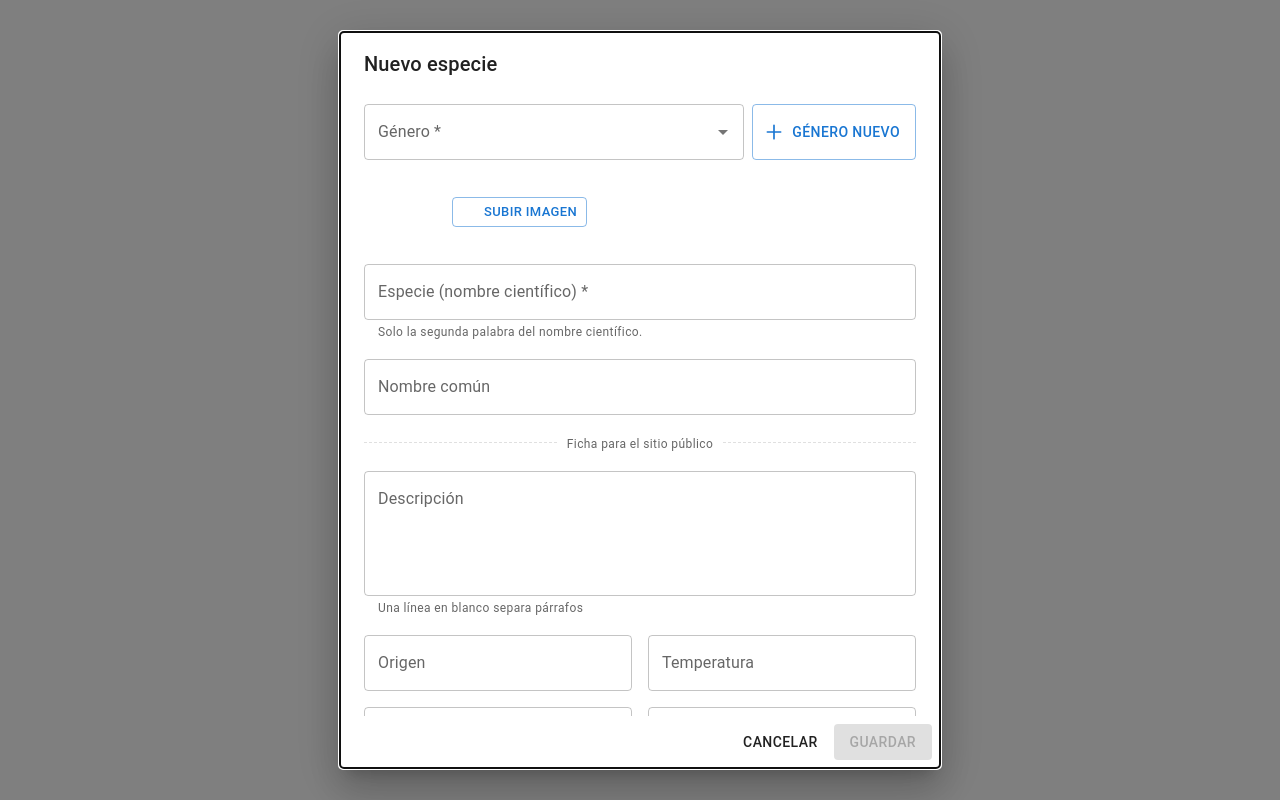
it: TaxonDialog › no deja crear un género que ya existe; hay que elegirlo de la lista
Click the button "Género nuevo": (834, 132) top-left (752, 104), bottom-right (916, 160)
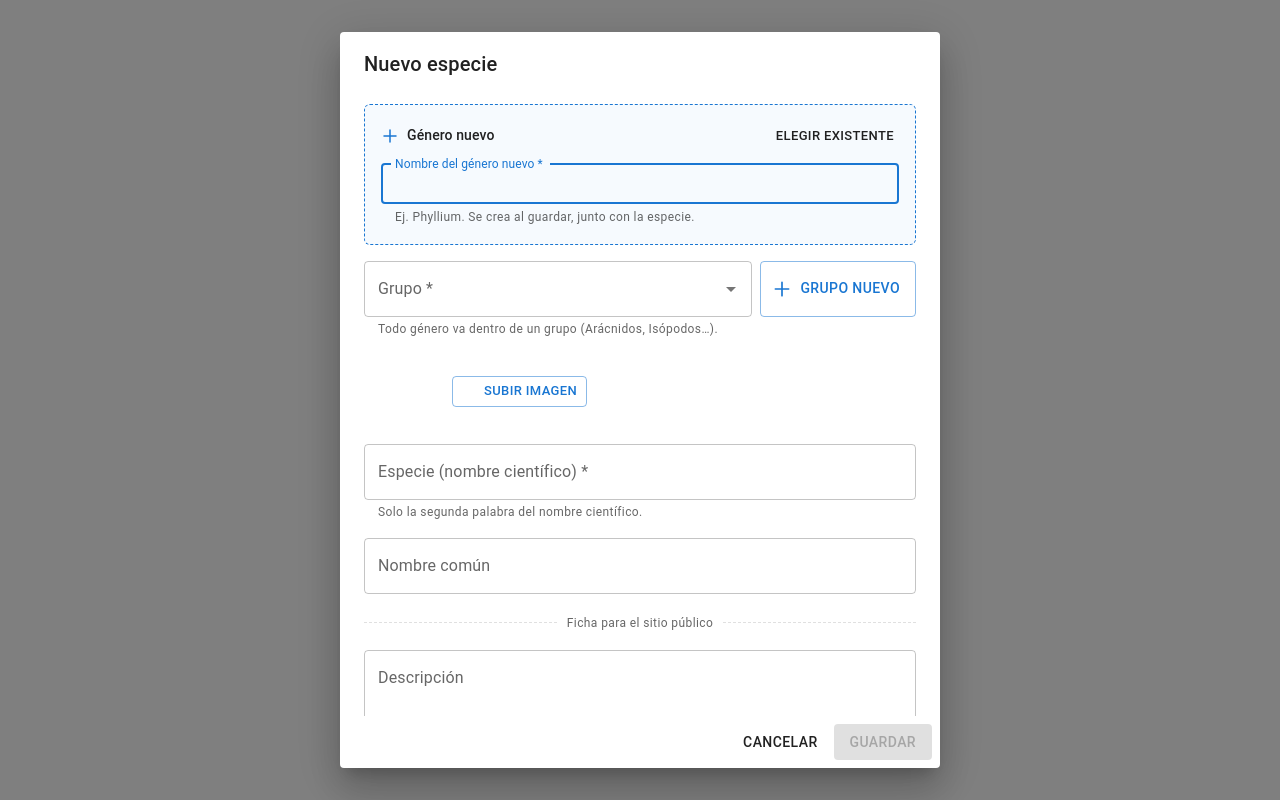
In the field labelled "Nombre del género nuevo *": (640, 184) top-left (381, 164), bottom-right (899, 204), type "cubaris"
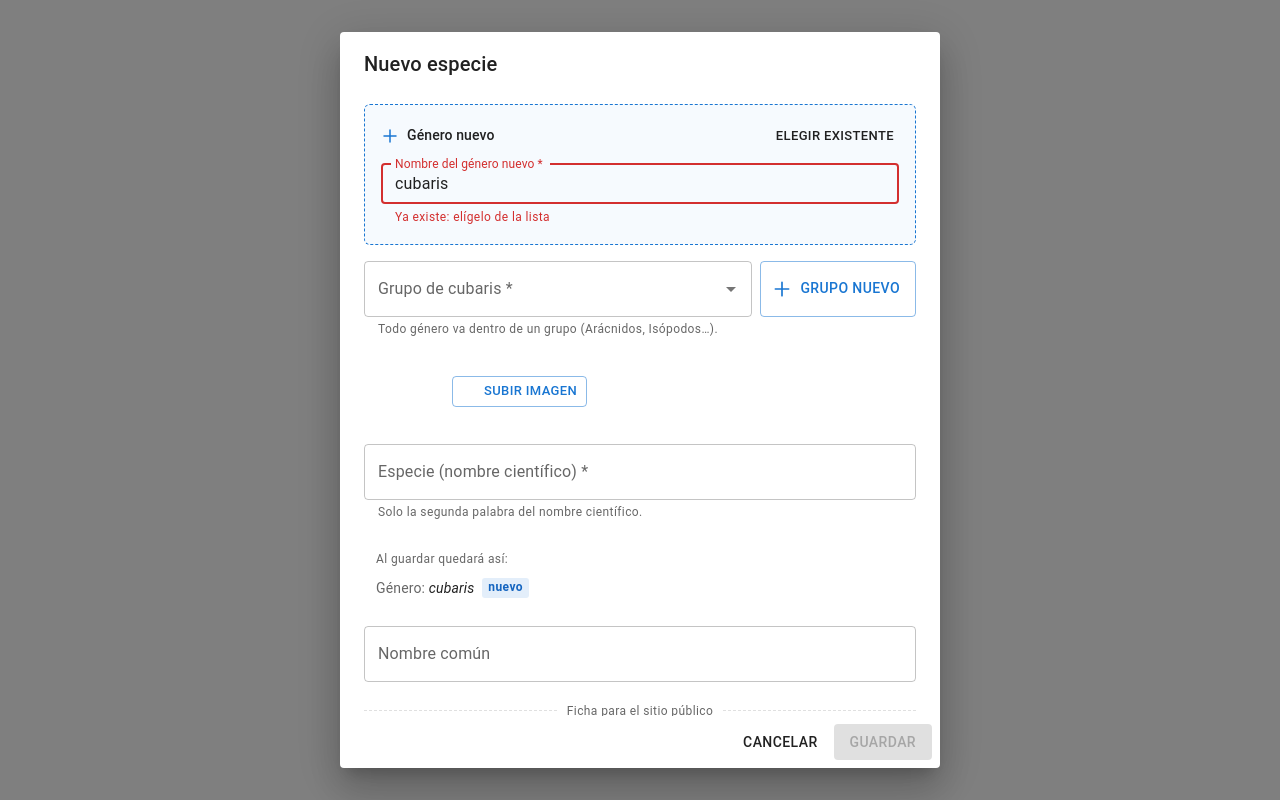
In the field labelled "Especie (nombre científico) *": (640, 472) top-left (364, 444), bottom-right (916, 500), type "murina"
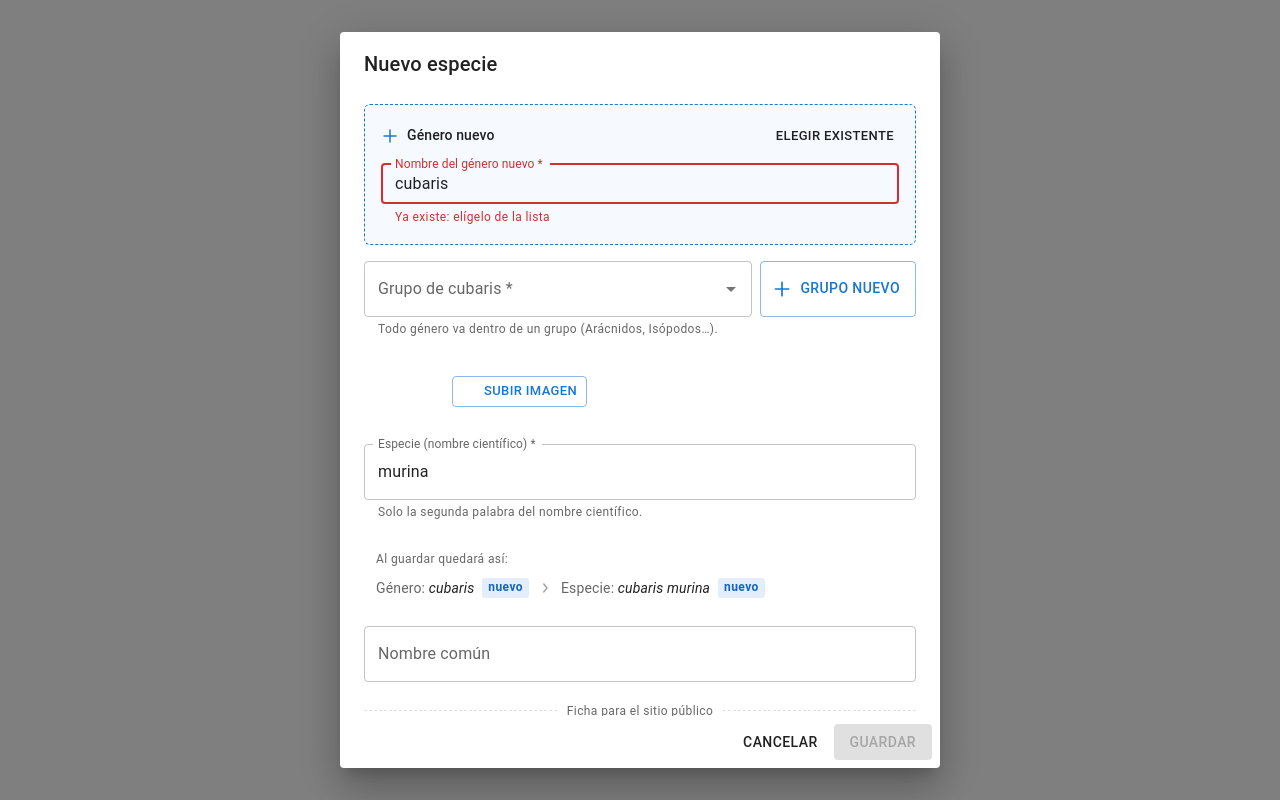
Expected: the button "Guardar" is disabled, top-left (834, 724), bottom-right (932, 760)
Now the text "Ya existe: elígelo de la lista" is shown, box top-left (395, 210), bottom-right (550, 224)
Click the button "Elegir existente": (835, 136) top-left (771, 121), bottom-right (899, 152)
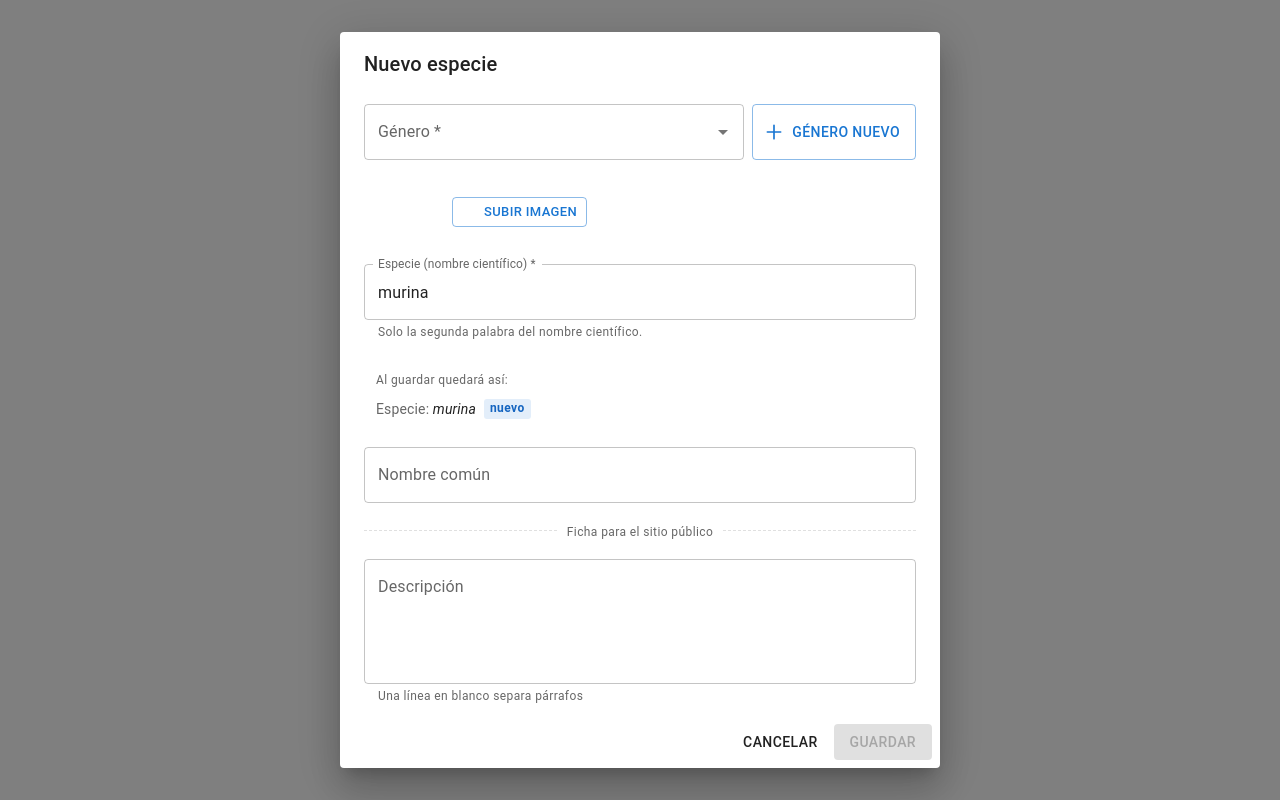
Now the dropdown labelled "Género *" is shown, box top-left (373, 113), bottom-right (705, 151)
